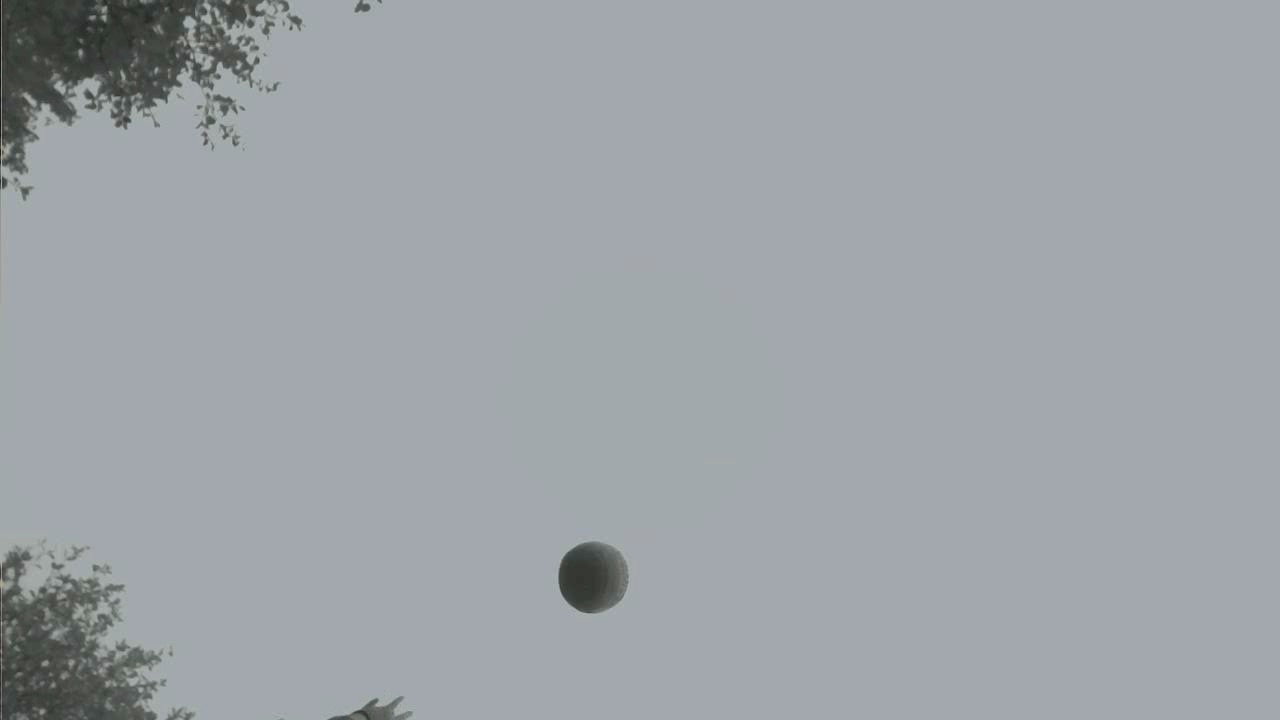Football-Spotter: (560, 541, 628, 612)
